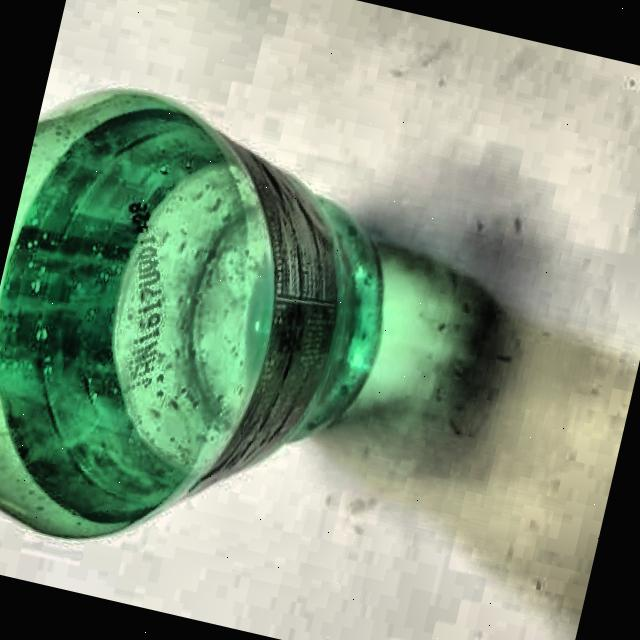plastic: (0, 72, 423, 605)
